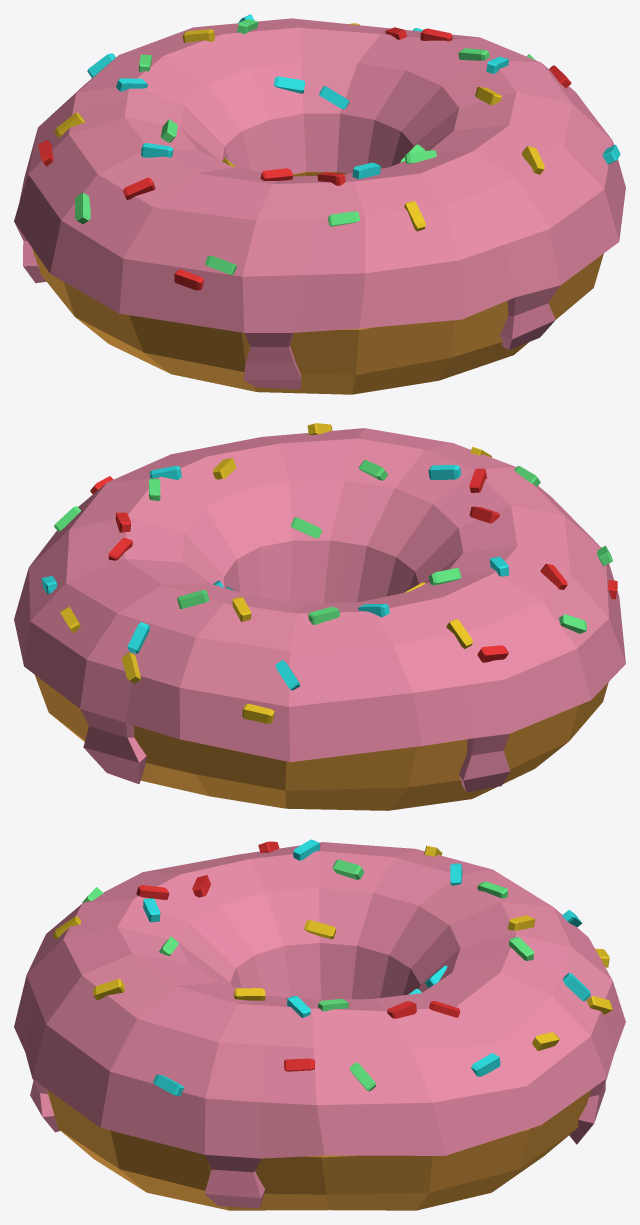
Rendered from donut.glb.
3 renders of one model, top to bottom at view 1: azimuth 30°, elevation 25°; view 2: azimuth 150°, elevation 25°; view 3: azimuth 270°, elevation 25°, orthographic.
Visible parts, largest first — view 1: Torus.001, Torus; view 2: Torus.001, Torus; view 3: Torus.001, Torus.
Part boxes in pixels (x1,y1,x2,y2): Torus.001: (14, 18, 625, 389); Torus: (32, 171, 603, 394); Torus.001: (14, 428, 625, 792); Torus: (35, 675, 608, 810); Torus.001: (14, 842, 625, 1208); Torus: (47, 1089, 591, 1210).
Bounding box in the file's own units: 0.3565 × 0.1361 × 0.3541.
